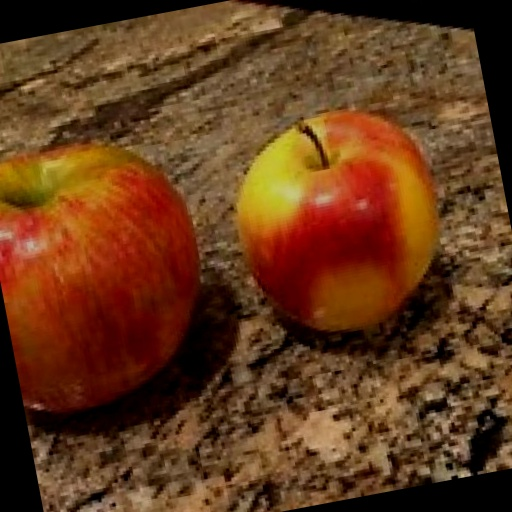fruit: (6, 97, 394, 468), (364, 80, 512, 400)
